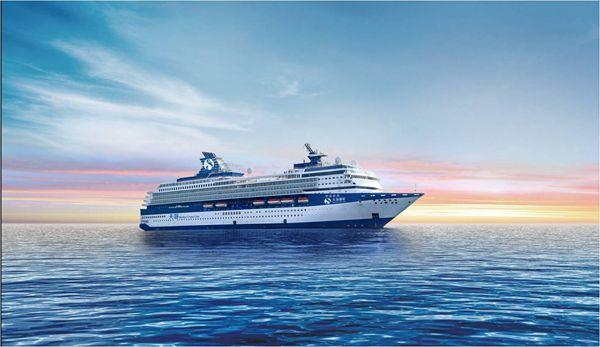Ship: (134, 156, 427, 238)
